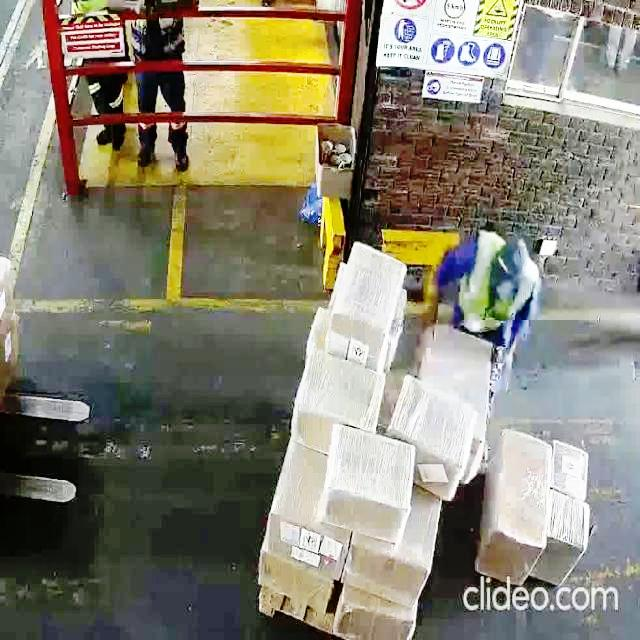Box: (322, 429, 409, 541), (328, 238, 398, 353), (491, 433, 545, 577), (394, 378, 471, 470), (294, 354, 379, 436), (268, 506, 346, 564), (352, 539, 429, 597), (255, 551, 332, 606), (338, 594, 413, 640), (548, 492, 581, 569), (554, 429, 588, 501)
